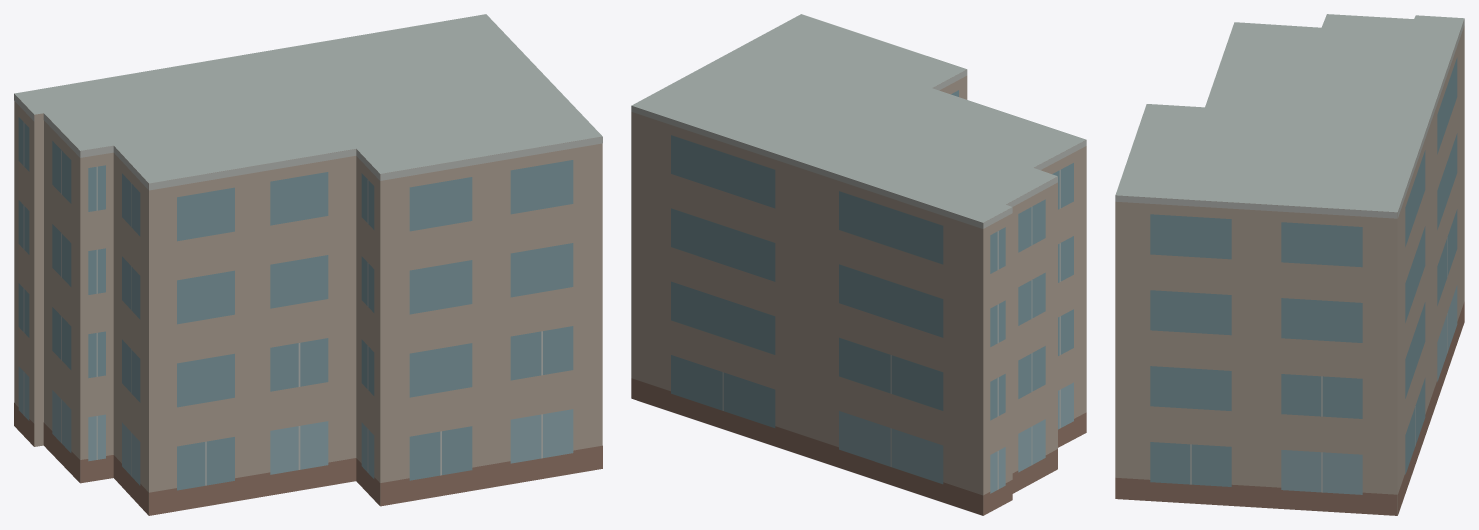
Rendered from survey-upis-32921090.glb.
The picture shows the model from 3 angles, left to right: view 1: azimuth 30°, elevation 25°; view 2: azimuth 150°, elevation 25°; view 3: azimuth 270°, elevation 25°; orthographic projection. The views are drawn at different scales.
Visible parts, largest first — view 1: survey-upis-32921090.tmp; view 2: survey-upis-32921090.tmp; view 3: survey-upis-32921090.tmp.
Boxes of the visible parts, left/top/right/bottom form: survey-upis-32921090.tmp: left=14, top=14, right=602, bottom=515; survey-upis-32921090.tmp: left=631, top=14, right=1086, bottom=515; survey-upis-32921090.tmp: left=1115, top=14, right=1464, bottom=515.
Bounding box in the file's own units: 16.26 × 11.6 × 12.11.
